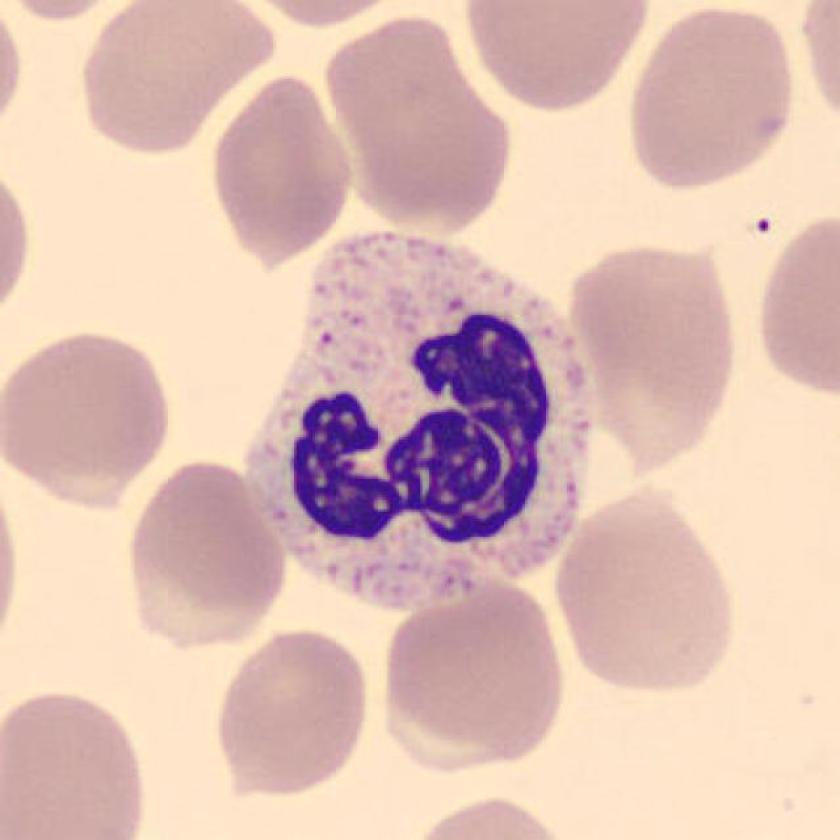neutrophil: (237, 223, 598, 602)
